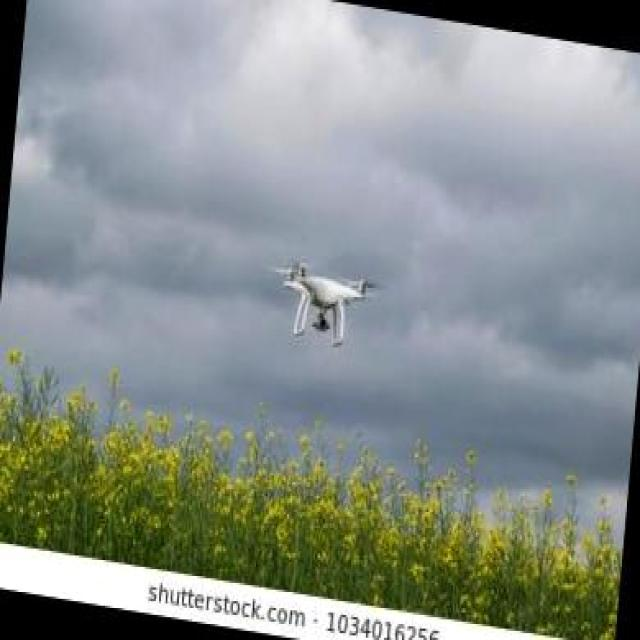drone: (261, 244, 381, 354)
